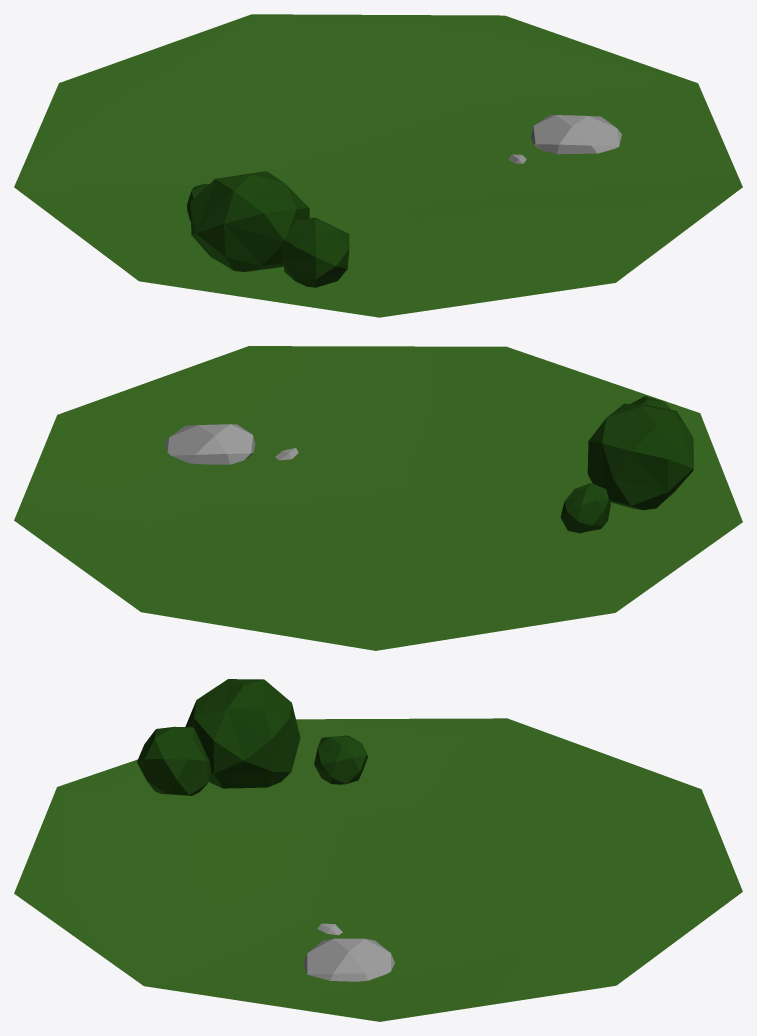
The model's file is grassScene.dae.
3 renders of one model, top to bottom at view 1: azimuth 30°, elevation 25°; view 2: azimuth 150°, elevation 25°; view 3: azimuth 270°, elevation 25°, orthographic.
Parts seen in each view (by area): view 1: NGon001, Hedra003, Hedra005, Hedra001; view 2: NGon001, Hedra003, Hedra001, Hedra004; view 3: NGon001, Hedra003, Hedra005, Hedra001, Hedra004.
Part boxes in pixels (bbox=[...]): NGon001: bbox=[14, 14, 742, 317]; Hedra003: bbox=[190, 171, 309, 271]; Hedra005: bbox=[282, 217, 349, 287]; Hedra001: bbox=[531, 115, 621, 154]; NGon001: bbox=[14, 346, 742, 650]; Hedra003: bbox=[587, 403, 693, 509]; Hedra001: bbox=[164, 424, 255, 464]; Hedra004: bbox=[560, 483, 610, 533]; NGon001: bbox=[14, 718, 742, 1021]; Hedra003: bbox=[185, 679, 300, 788]; Hedra005: bbox=[137, 726, 210, 795]; Hedra001: bbox=[303, 938, 394, 981]; Hedra004: bbox=[314, 735, 367, 784].
Size of the model in its own units: 538 by 110 by 546.
